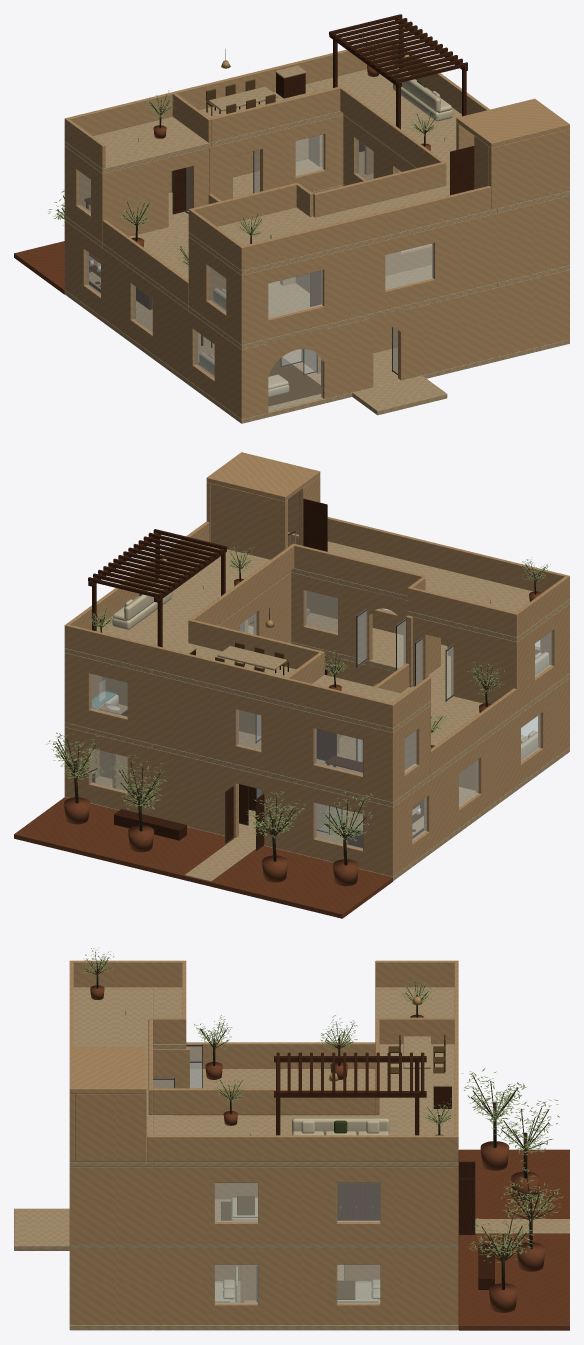
Rendered from casa-mirador.glb.
3 renders of one model, top to bottom at view 1: azimuth 30°, elevation 25°; view 2: azimuth 150°, elevation 25°; view 3: azimuth 270°, elevation 25°, orthographic. The views are drawn at different scales.
Visible parts, largest first — view 1: GF outer wall.002, Upper outer wall.002, Roof parapet, Roof parapet.006, Roof stair headhouse wall, Upper outer wall.001, Roof terrace slab.006, Roof terrace slab, Upper terrace wall.002, Roof terrace slab.005, GF outer wall.001, Roof parapet.009 (+65 smaller); view 2: PROPOSED garden outside unknown plot boundary, Roof parapet.006, Upper outer wall.005, GF outer wall.005, Roof parapet, Roof terrace slab.006, Roof stair headhouse wall.002, Roof terrace slab, Upper terrace wall, Upper outer wall.004, GF outer wall.004, Roof stair headhouse roof (+72 smaller); view 3: PROPOSED garden outside unknown plot boundary, GF outer wall.007, Upper outer wall.007, Roof parapet.007, GF outer wall.008, Upper outer wall.008, Roof terrace slab.006, GF outer wall.009, Upper outer wall.009, Roof parapet.008, Roof stair headhouse wall.001, Roof terrace slab (+52 smaller).
Part boxes in pixels (x1,y1,x2,y2): GF outer wall.002: [398, 269, 569, 380]; Upper outer wall.002: [432, 195, 569, 297]; Roof parapet: [239, 186, 490, 270]; Roof parapet.006: [64, 40, 391, 141]; Roof stair headhouse wall: [489, 128, 569, 209]; Upper outer wall.001: [321, 240, 385, 324]; Roof terrace slab.006: [307, 64, 461, 183]; Roof terrace slab: [203, 183, 497, 275]; Upper terrace wall.002: [107, 157, 168, 236]; Roof terrace slab.005: [64, 116, 211, 173]; GF outer wall.001: [321, 318, 373, 398]; Roof parapet.009: [313, 161, 446, 217]; PROPOSED garden outside unknown plot boundary: [14, 797, 392, 918]; Roof parapet.006: [65, 624, 394, 727]; Upper outer wall.005: [127, 668, 238, 763]; GF outer wall.005: [127, 742, 238, 837]; Roof parapet: [327, 517, 569, 599]; Roof terrace slab.006: [64, 550, 290, 673]; Roof stair headhouse wall.002: [211, 483, 287, 559]; Roof terrace slab: [291, 541, 569, 630]; Upper terrace wall: [451, 626, 511, 703]; Upper outer wall.004: [261, 700, 316, 782]; GF outer wall.004: [261, 775, 316, 856]; Roof stair headhouse roof: [206, 452, 320, 501]; PROPOSED garden outside unknown plot boundary: [458, 1149, 569, 1330]; GF outer wall.007: [69, 1248, 214, 1324]; Upper outer wall.007: [76, 1167, 214, 1243]; Roof parapet.007: [147, 1135, 458, 1161]; GF outer wall.008: [258, 1248, 337, 1324]; Upper outer wall.008: [258, 1167, 337, 1243]; Roof terrace slab.006: [153, 1115, 458, 1166]; GF outer wall.009: [380, 1248, 458, 1324]; Upper outer wall.009: [380, 1167, 458, 1243]; Roof parapet.008: [153, 1088, 375, 1114]; Roof stair headhouse wall.001: [75, 1094, 146, 1161]; Roof terrace slab: [73, 987, 152, 1123].
Bounding box in the file's own units: 15 × 10.86 × 20.
17 materials, 8 textured.
